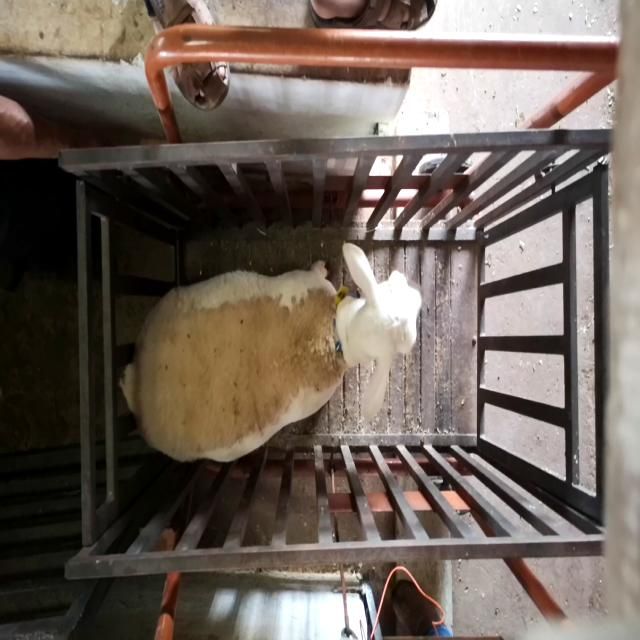sheep: (120, 242, 424, 463)
